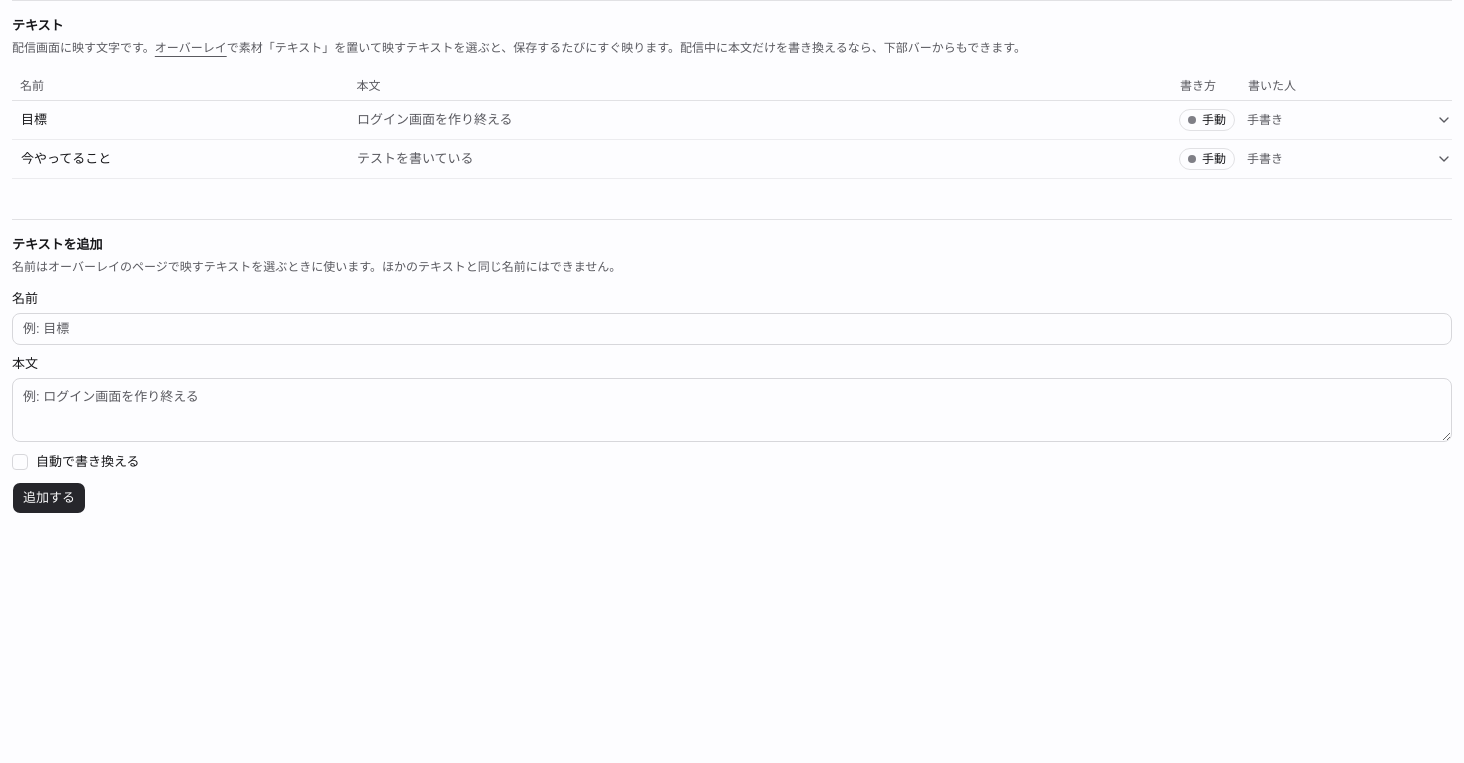
書き換え › Workerが拒んだら、問題点を1行ずつ出す
This screenshot has width=1464, height=763.
Click the button "目標 ログイン画面を作り終える 手動 手書き" at (435, 119), box [12,102,1428,138]
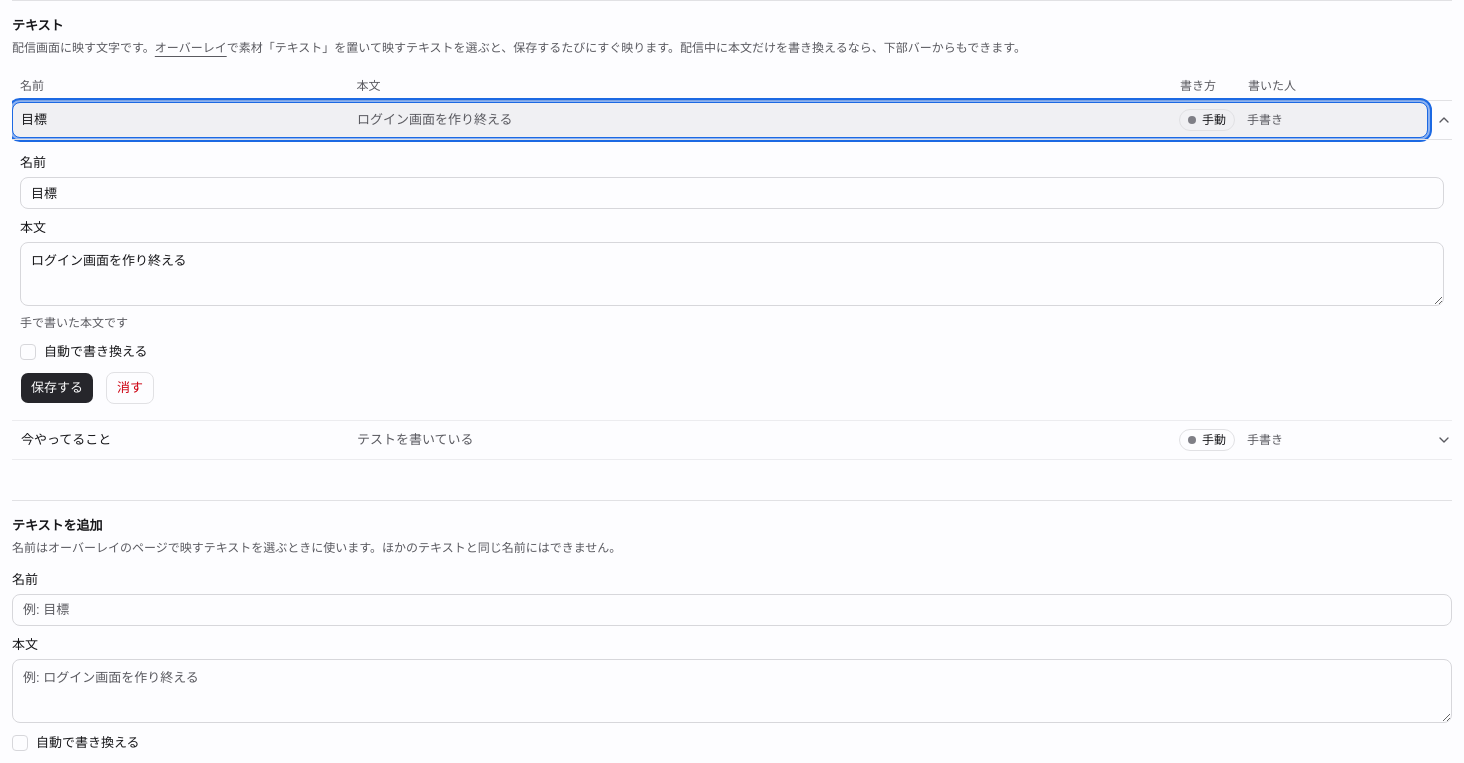
Replace the text in the field labelled "名前" below "書き方" with "今やってること" at (732, 193), box [20,177,1444,209]
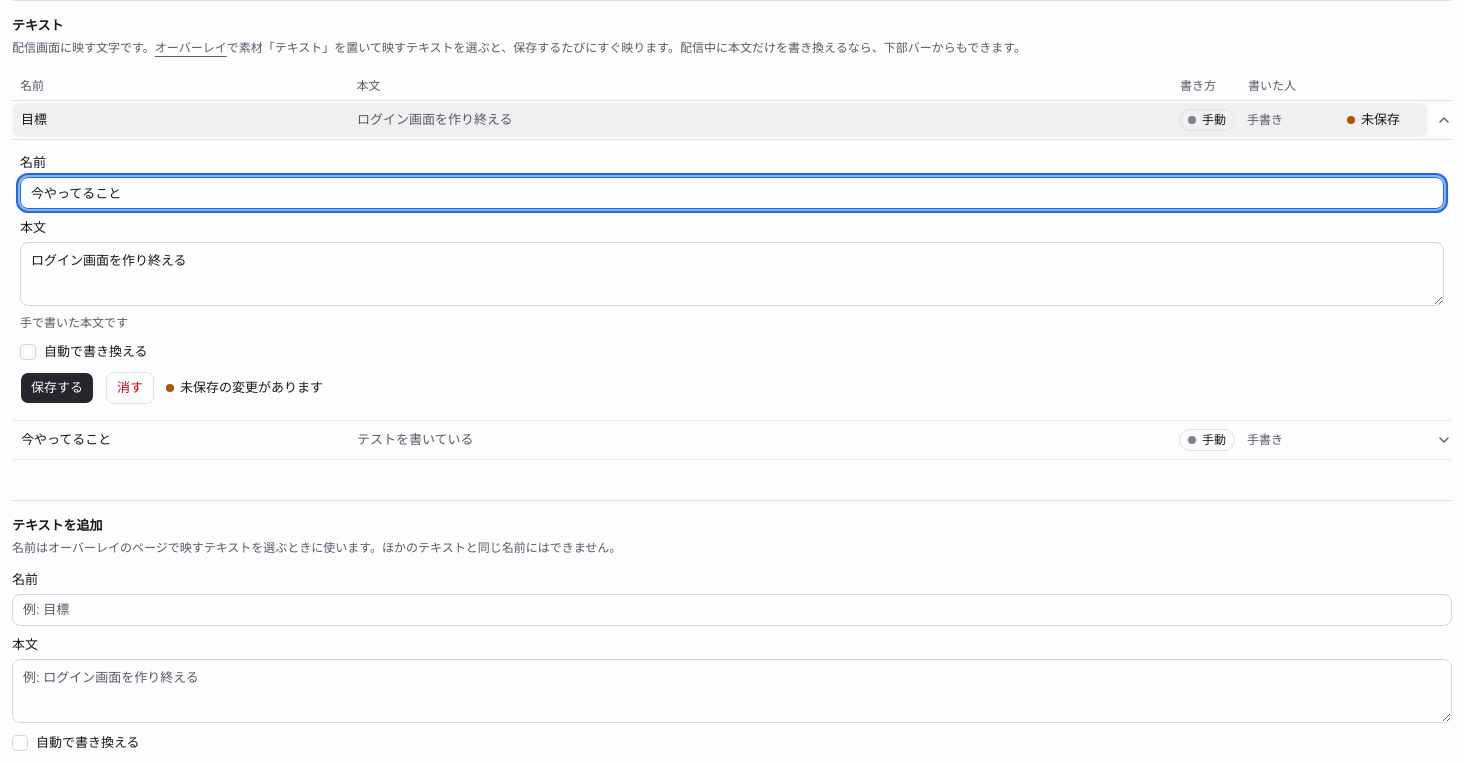
Click the button with aria-label "目標 を保存する" at (57, 388), box [20,372,94,404]
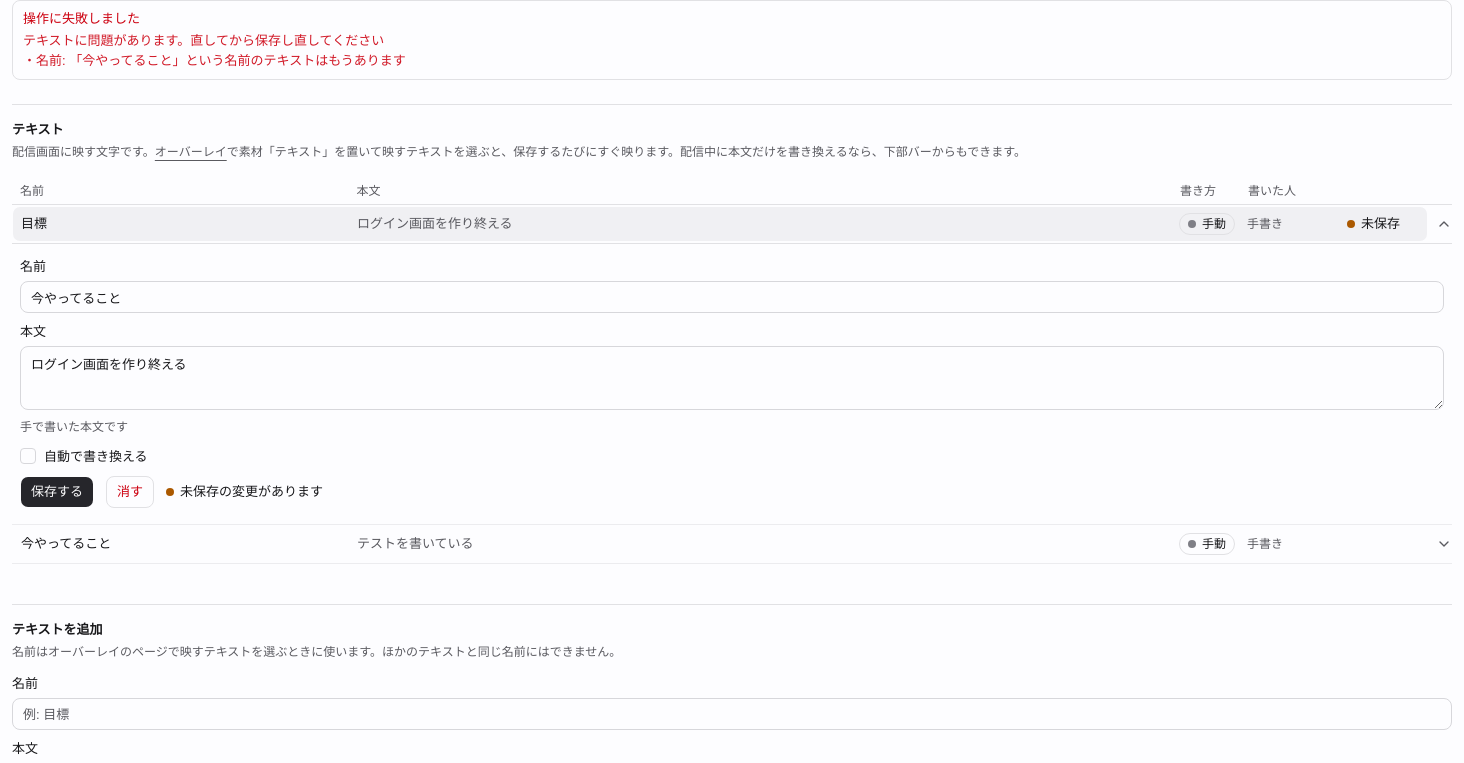
expect the text "テキストに問題があります。直してから保存し直してください ・名前: 「今やってること」という名前のテキストはもうあります" is shown: met, box [23,33,406,68]
